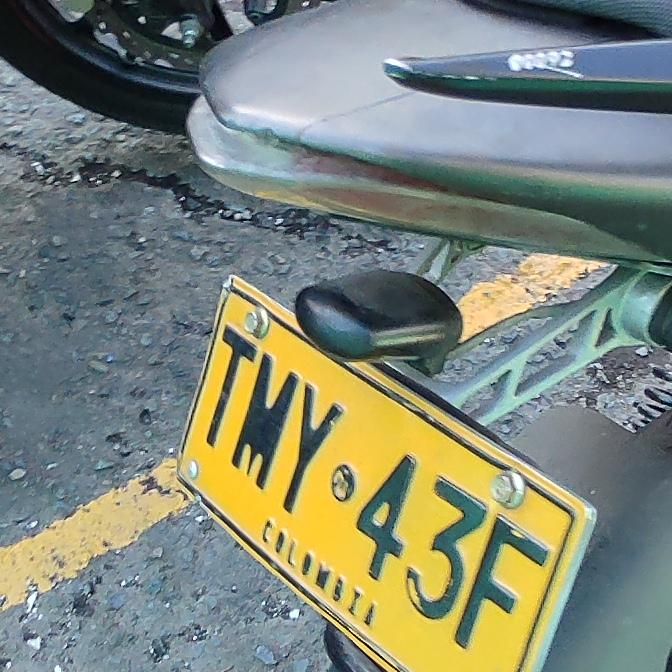plates: (169, 278, 587, 672)
